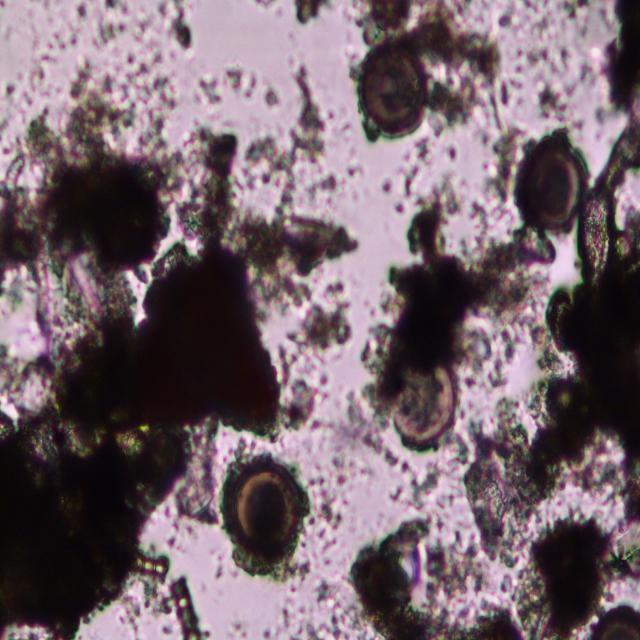Background material: (0, 296, 189, 640), (352, 201, 554, 452), (0, 55, 182, 305), (530, 271, 640, 528), (502, 512, 617, 640), (456, 395, 539, 562), (411, 0, 505, 135), (241, 59, 325, 210), (346, 514, 438, 640), (500, 0, 594, 121), (274, 296, 354, 434), (417, 530, 499, 640), (227, 208, 313, 309), (178, 118, 242, 244), (301, 443, 371, 539), (378, 142, 459, 218), (267, 573, 345, 640), (596, 0, 639, 119), (178, 431, 220, 528), (483, 116, 527, 205), (354, 0, 425, 49), (386, 451, 446, 506), (600, 511, 640, 584), (153, 0, 198, 51), (472, 596, 523, 640), (301, 169, 347, 208), (225, 65, 259, 102), (141, 575, 171, 616), (190, 73, 222, 109), (118, 592, 141, 640), (166, 505, 198, 539), (133, 0, 158, 42), (27, 52, 53, 92), (291, 0, 333, 24), (95, 15, 131, 42), (322, 277, 348, 300), (259, 84, 281, 110), (46, 30, 68, 52), (319, 536, 337, 562), (347, 160, 367, 180), (229, 619, 248, 640), (104, 0, 128, 15), (498, 572, 514, 594), (0, 23, 18, 41), (75, 0, 88, 21), (254, 0, 275, 13), (342, 119, 353, 143), (125, 48, 138, 68), (4, 80, 16, 100), (324, 108, 338, 125), (166, 534, 178, 550), (16, 68, 27, 85), (68, 19, 81, 33), (213, 564, 224, 580), (161, 624, 175, 634), (202, 627, 212, 640), (41, 0, 51, 12), (68, 34, 78, 46), (0, 0, 8, 12), (217, 552, 225, 561)
Cellulose filter fibre: (575, 96, 640, 289)
Diatom: (222, 449, 308, 572), (383, 356, 461, 452), (356, 38, 428, 139), (514, 139, 584, 236), (274, 214, 358, 272), (170, 577, 201, 640), (593, 604, 640, 640), (544, 379, 576, 415), (132, 550, 170, 580)
Fragment: (125, 242, 282, 438)
